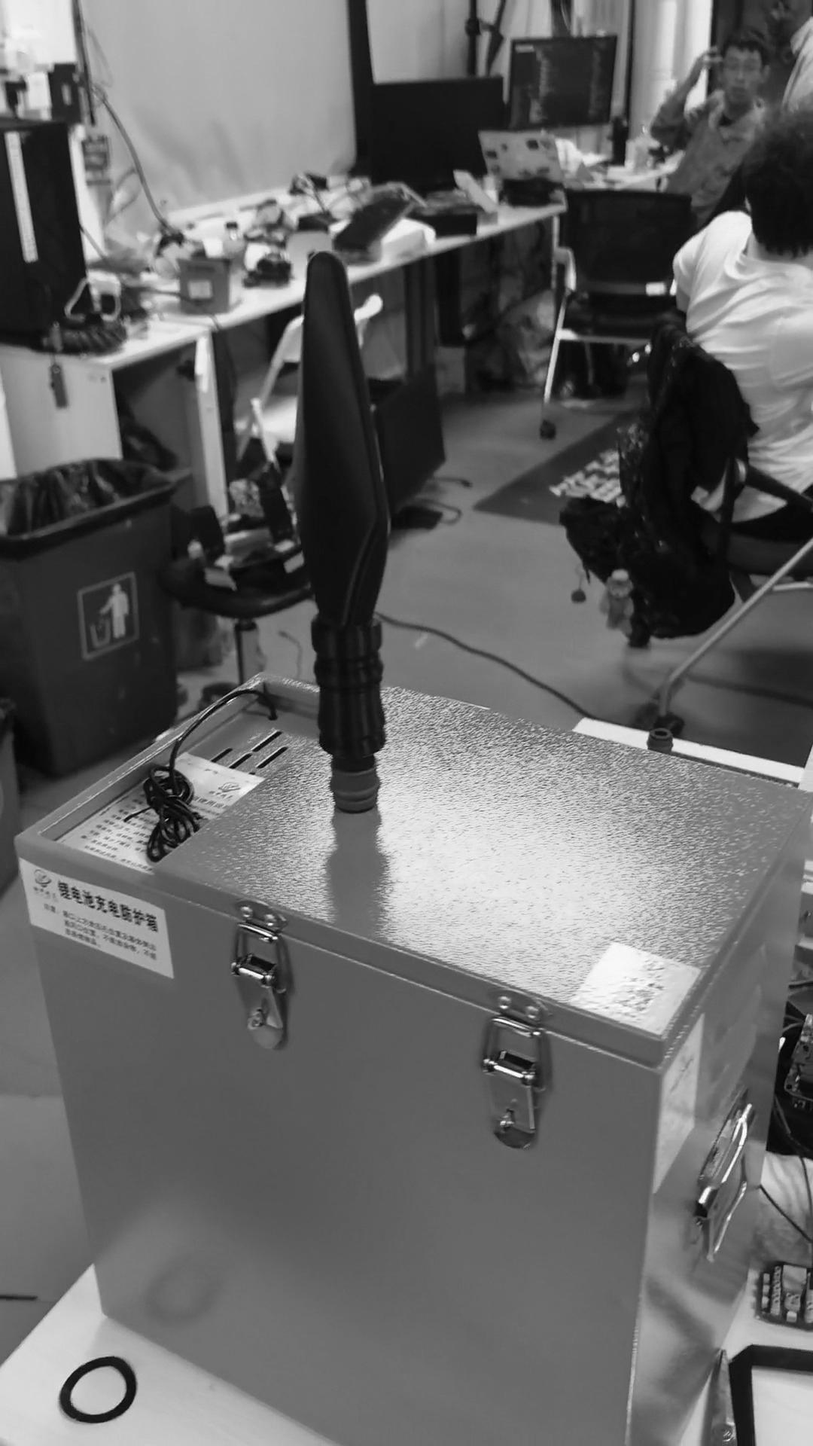base: (329, 765, 380, 814)
